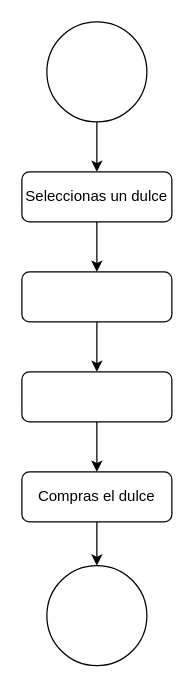
Image size: 194x688. Some labels were removed from this diagram. The shapes that lost their labels are listed below. From the top down, each one's centre as x and y in pixels, then its label:
At point 96,296: "Te redirige al carrito".
At point 96,396: "Te diriges a comprar".
